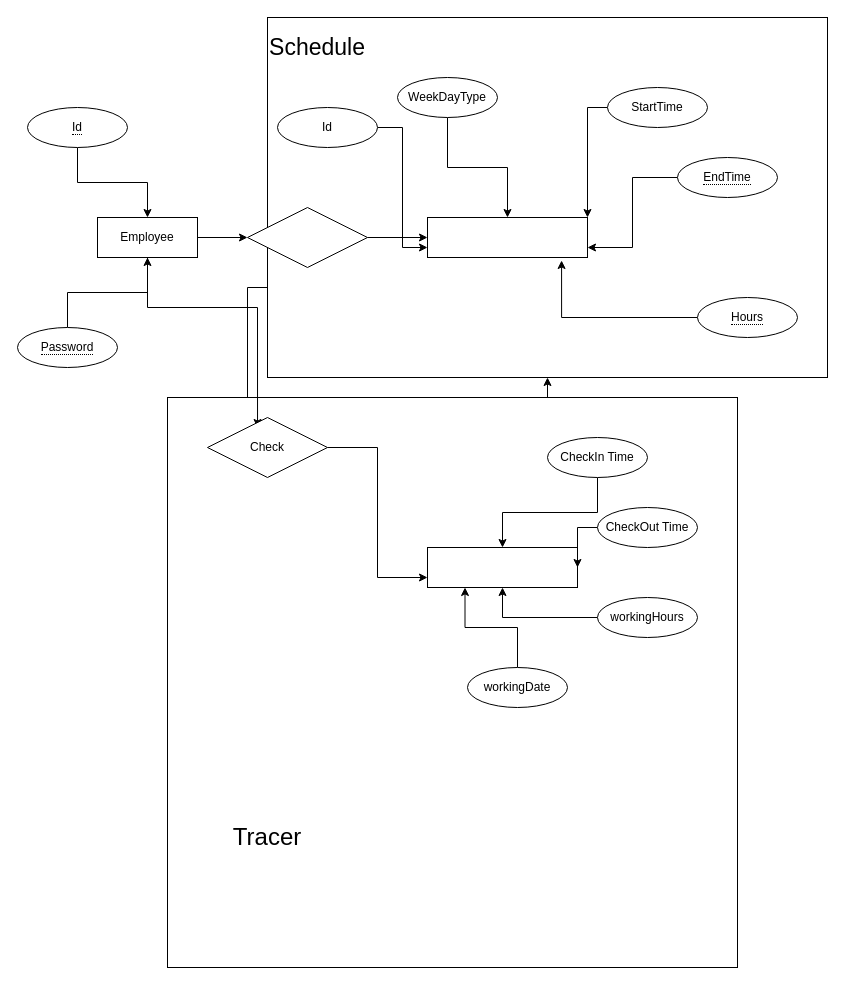
This 845x985 diagram has some shape labels left out. Here are the shapes that lost their labels. From the top down, the centre of each, then its label:
At (307,237): "get".
At (507,237): "Working Schedule".
At (502,567): "CheckIn-Out Time".
